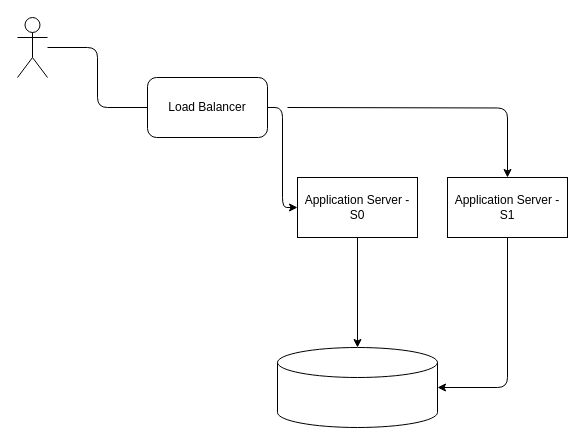
Image size: 585x445. Some labels were removed from this diagram. The shapes that lost their labels are listed below. From the top down, each one's centre as x and y in pixels, then its label:
At (32,47): "Actor".
At (357,387): "General DB".
